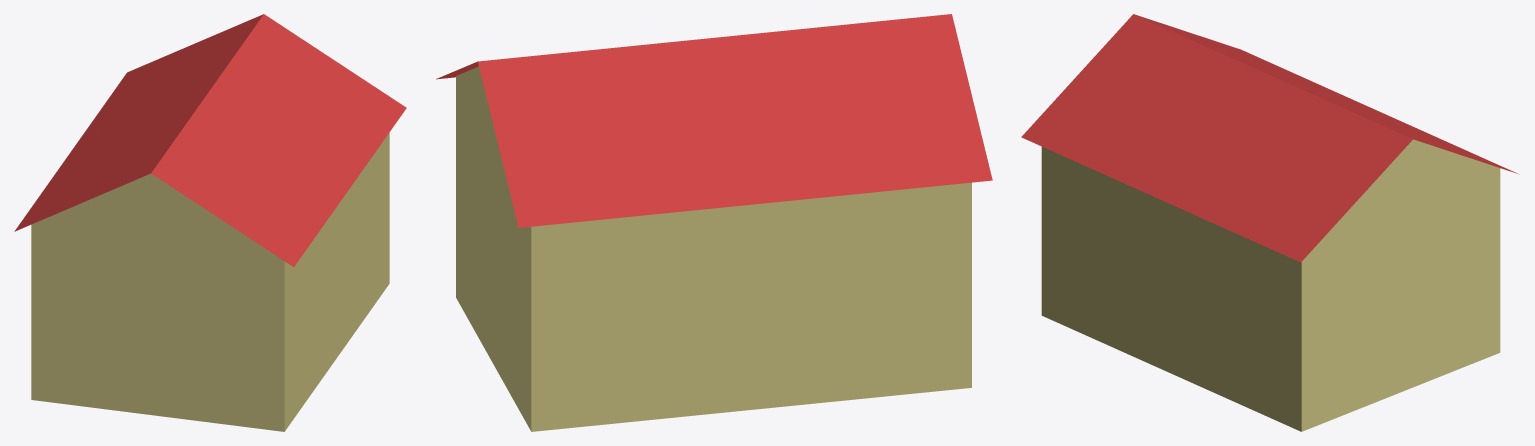
3 renders of one model, left to right at view 1: azimuth 30°, elevation 25°; view 2: azimuth 150°, elevation 25°; view 3: azimuth 270°, elevation 25°, orthographic. The views are drawn at different scales.
Size of the model in its own units: 17.47 by 17.32 by 9.81.
